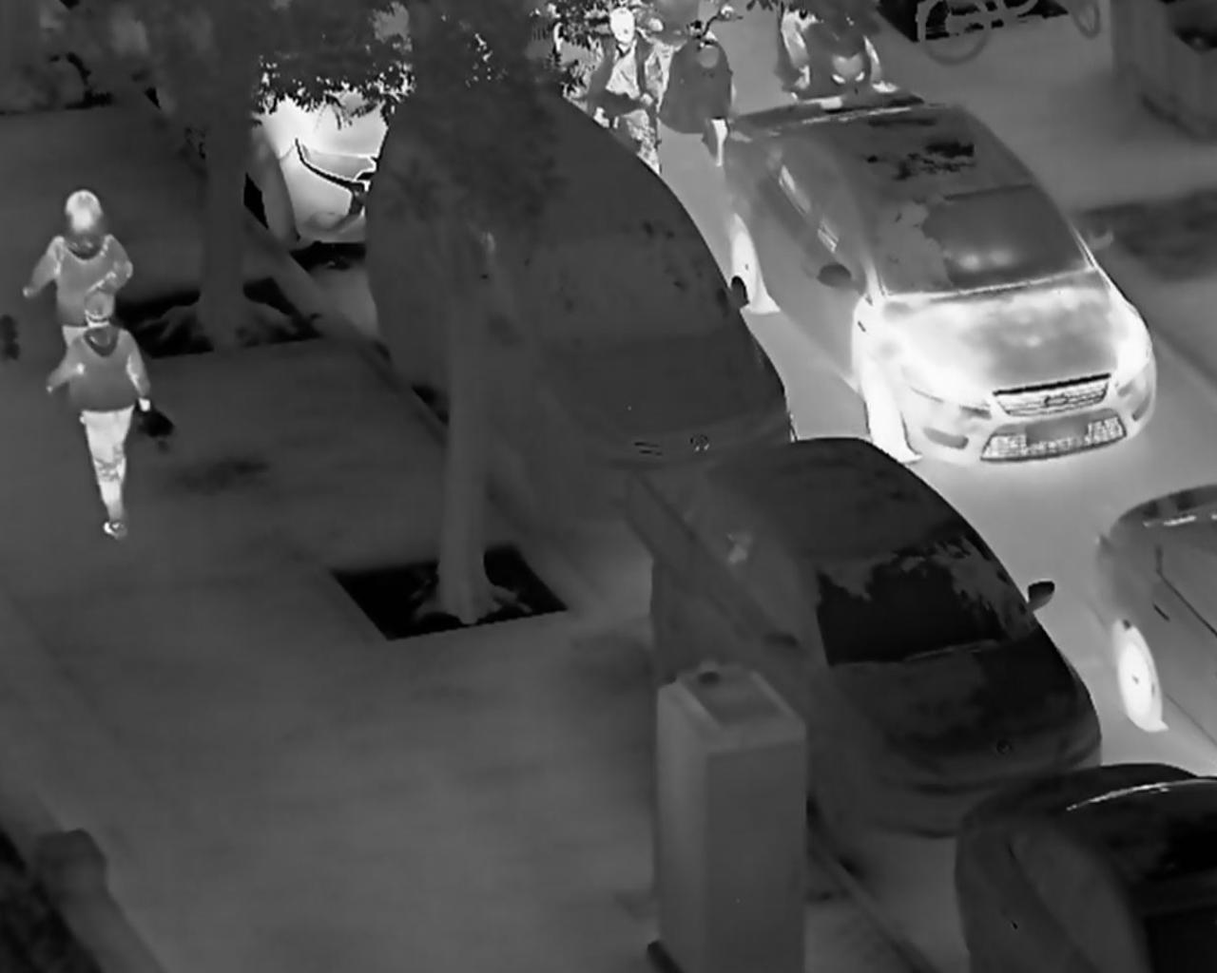person: (42, 287, 152, 544), (18, 185, 135, 357), (571, 6, 666, 175)
